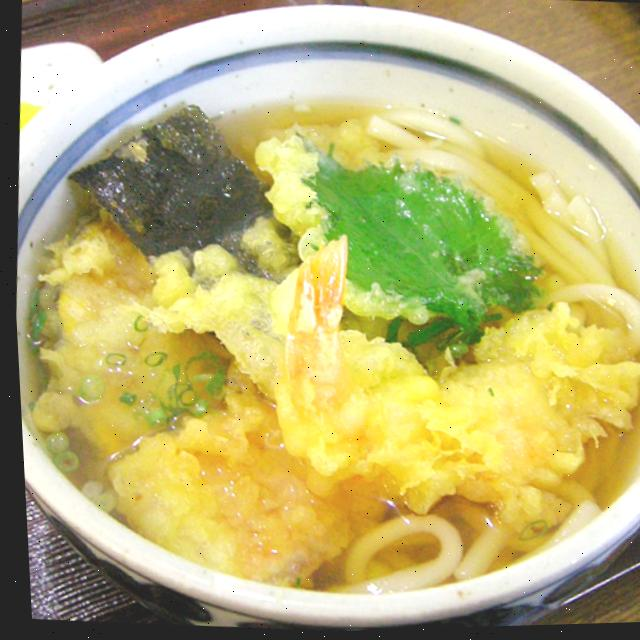面条主食: (4, 81, 640, 628)
